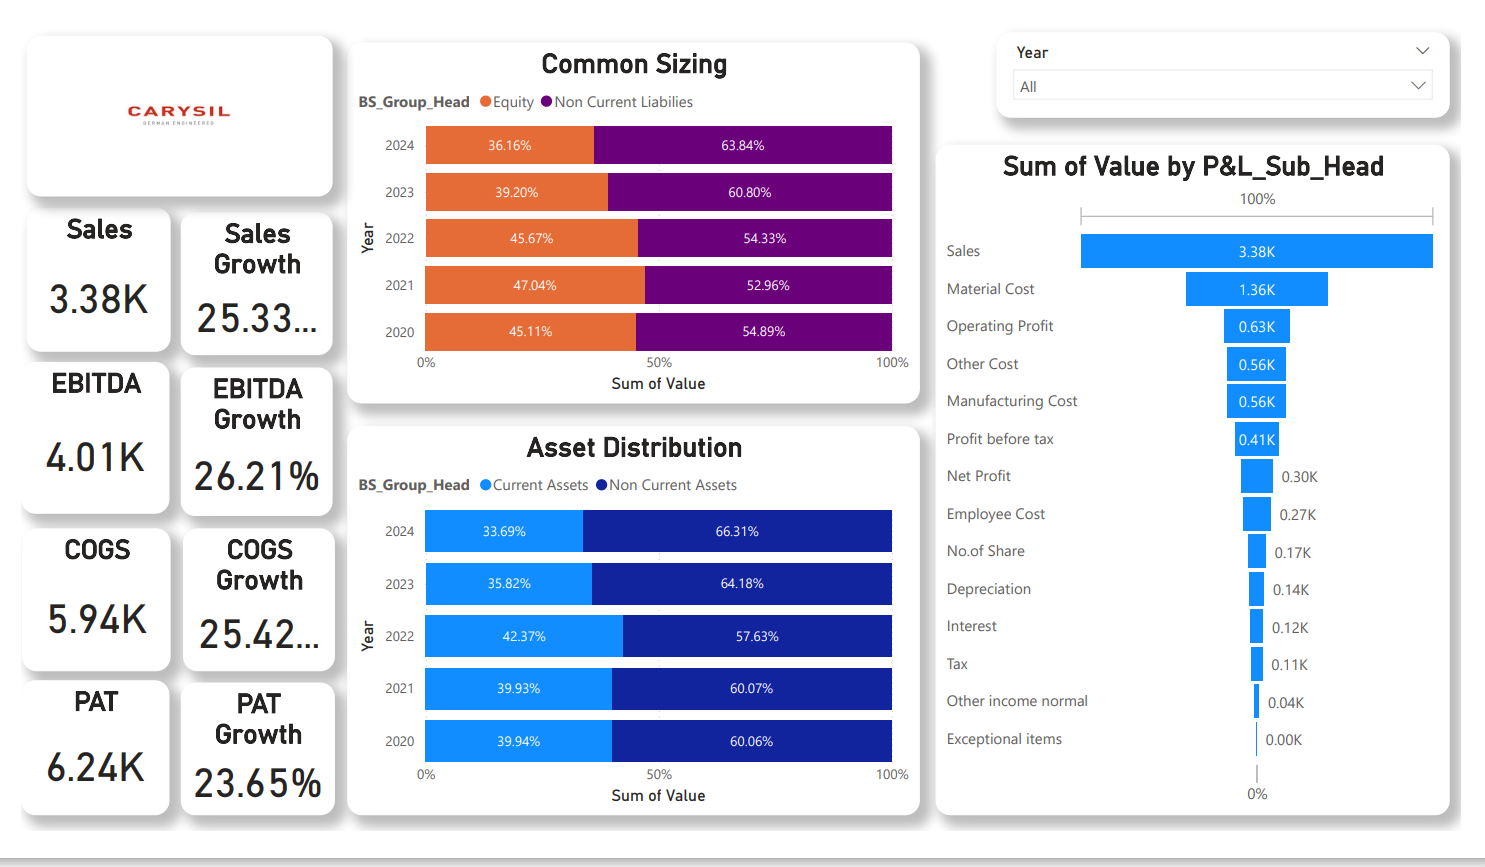

What the dashboard file says about the page in this screenshot:
{"tool":"powerbi","page":{"name":"summary","canvas":[1280,720],"ordinal":0},"visuals":[{"type":"card","title":"Sales","fields":{"Values":["Sum(P&L Fact.Value)"]},"box":[4.8,166.5,127.9,127.9],"z":0},{"type":"card","title":"EBITDA","fields":{"Values":["Sum(P&L Fact.Value)"]},"box":[0,302.8,131.5,135.1],"z":1000},{"type":"card","title":"COGS","fields":{"Values":["Sum(P&L Fact.Value)"]},"box":[1.2,451.2,131.5,126.7],"z":2000},{"type":"card","title":"PAT","fields":{"Values":["Sum(P&L Fact.Value)"]},"box":[0,586.3,131.5,119.4],"z":3000},{"type":"card","title":"Sales Growth","fields":{"Values":["P&L Fact.% change"]},"box":[142.4,170.1,135.1,126.7],"z":4000},{"type":"card","title":"EBITDA Growth","fields":{"Values":["P&L Fact.% change"]},"box":[142.4,307.6,135.1,132.7],"z":5000},{"type":"card","title":"COGS Growth","fields":{"Values":["P&L Fact.% change"]},"box":[143.6,451.2,135.1,126.7],"z":6000},{"type":"card","title":"PAT Growth","fields":{"Values":["P&L Fact.% change"]},"box":[142.4,587.5,136.3,118.2],"z":7000},{"type":"hundredPercentStackedBarChart","title":"Asset Distribution","fields":{"Category":["Date Dim.Date.Variation.Date Hierarchy.Year"],"Y":["Sum(BS Fact.Value)"],"Series":["BS Dim.BS_Group_Head"]},"box":[289.5,359.5,509.1,346.2],"z":8000},{"type":"hundredPercentStackedBarChart","title":"Common Sizing","fields":{"Category":["Date Dim.Date.Variation.Date Hierarchy.Year"],"Y":["Sum(BS Fact.Value)"],"Series":["BS Dim.BS_Group_Head"]},"box":[289.5,19.3,509.1,320.9],"z":9000},{"type":"slicer","fields":{"Values":["Date Dim.Year"]},"box":[867.4,9.7,403,76],"z":10000},{"type":"funnel","fields":{"Category":["P&L Dim.P&L_Sub_Head"],"Y":["Sum(P&L Fact.Value)"]},"box":[813.1,109.8,457.2,596],"z":11000},{"type":"image","box":[4.8,13.3,272.7,142.4],"z":12000}]}

Visuals, with their boxes on the page's 1280x720 design canvas (x1, y1, x2, y2). These are canvas units, not pixel positions in the 1485x867 screenshot, which may show the page scaled, cropped or inside an application window:
"Sales" card: <region>5, 166, 133, 294</region>
"EBITDA" card: <region>0, 303, 132, 438</region>
"COGS" card: <region>1, 451, 133, 578</region>
"PAT" card: <region>0, 586, 132, 706</region>
"Sales Growth" card: <region>142, 170, 278, 297</region>
"EBITDA Growth" card: <region>142, 308, 278, 440</region>
"COGS Growth" card: <region>144, 451, 279, 578</region>
"PAT Growth" card: <region>142, 588, 279, 706</region>
"Asset Distribution" hundredPercentStackedBarChart: <region>290, 360, 799, 706</region>
"Common Sizing" hundredPercentStackedBarChart: <region>290, 19, 799, 340</region>
slicer - Date Dim.Year: <region>867, 10, 1270, 86</region>
funnel - P&L Dim.P&L_Sub_Head x Sum(P&L Fact.Value): <region>813, 110, 1270, 706</region>
image: <region>5, 13, 278, 156</region>
